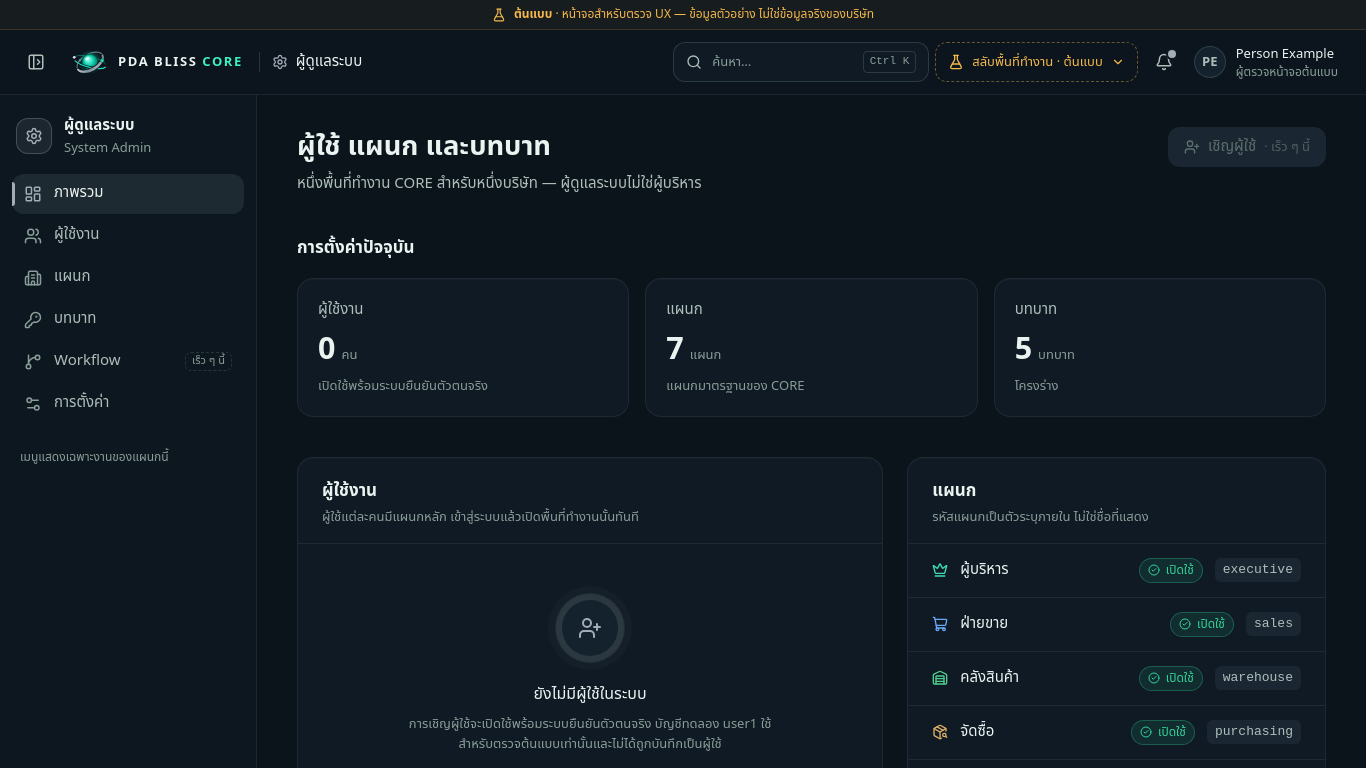
Scenario: AppShell (EP02) › marks the workspace switcher as prototype-only
The image size is (1366, 768).
Click the button "สลับพื้นที่ทำงาน · ต้นแบบ" at {"x": 1037, "y": 62}, box [935,42,1138,82]
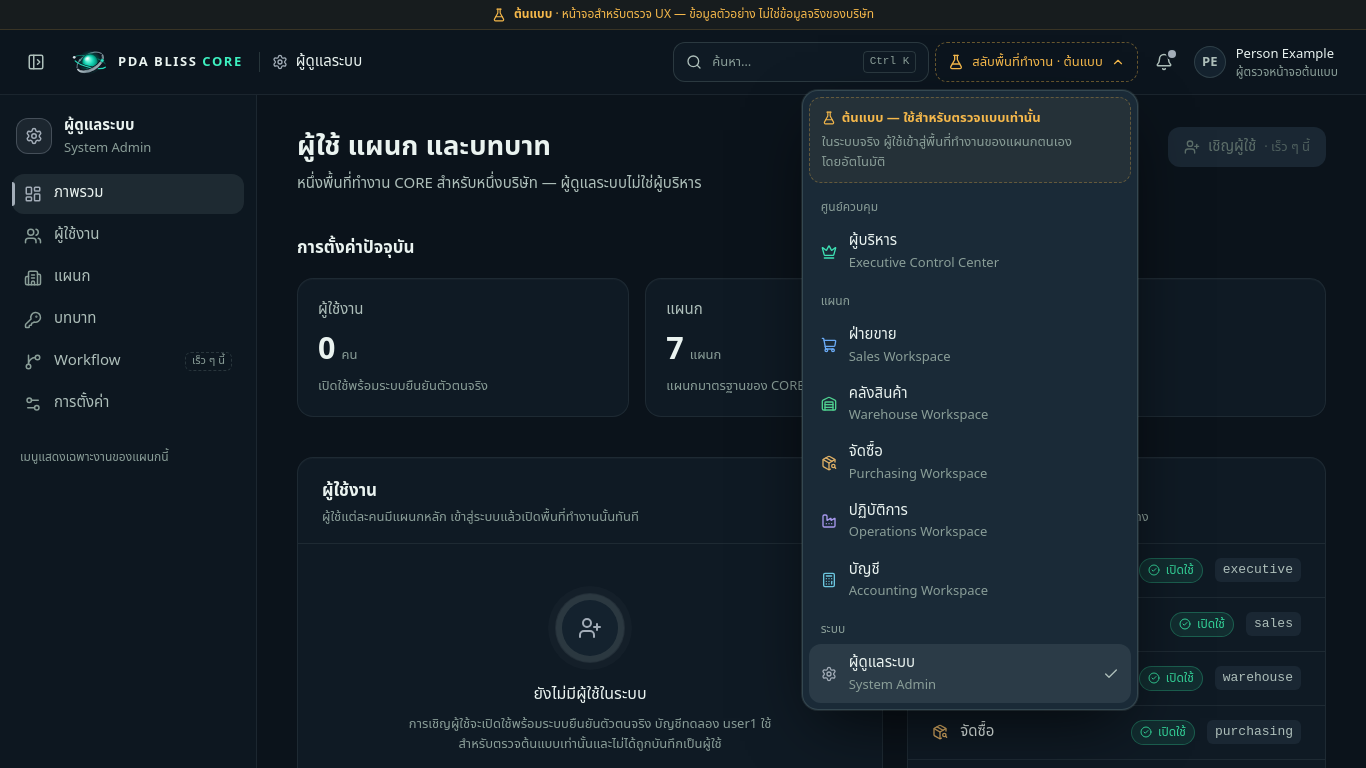
Expected: the menu named "เฉพาะต้นแบบ" shows "ใช้สำหรับตรวจแบบเท่านั้น", [903,108,1041,128]
Expected: the number of menu items is 7
